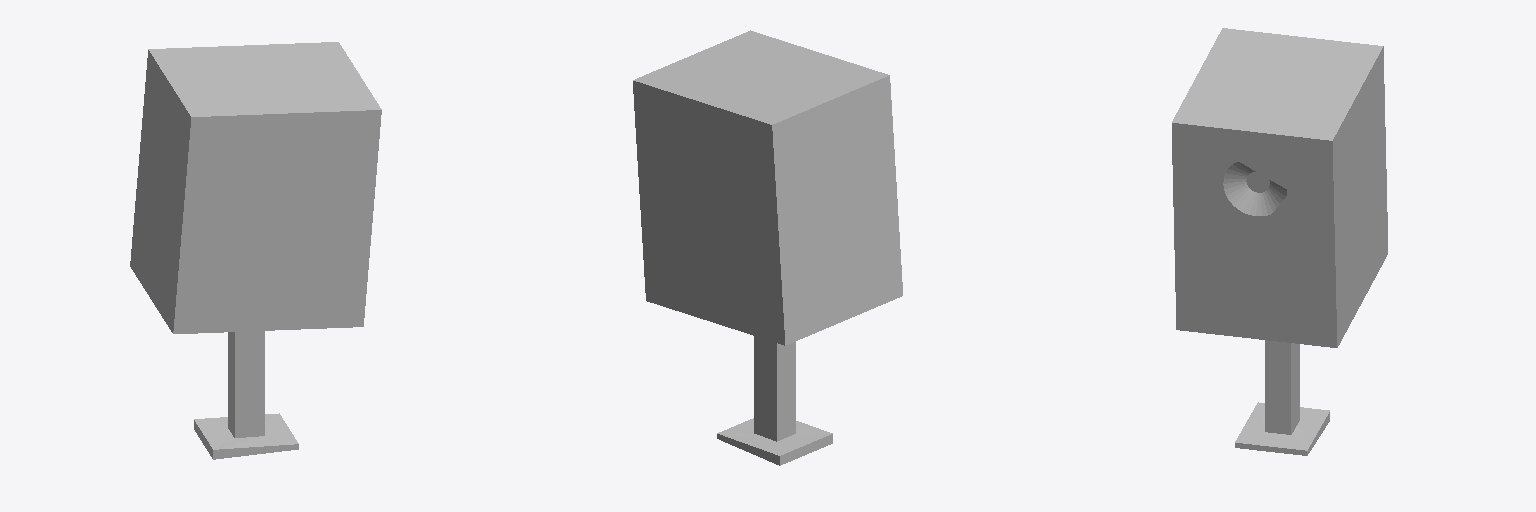
Rendered from rightSpeaker.obj.
The picture shows the model from 3 angles: view 1: azimuth 30°, elevation 25°; view 2: azimuth 150°, elevation 25°; view 3: azimuth 270°, elevation 25°; orthographic projection.
Bounding box in the file's own units: 0.5938 × 0.9495 × 0.5115.